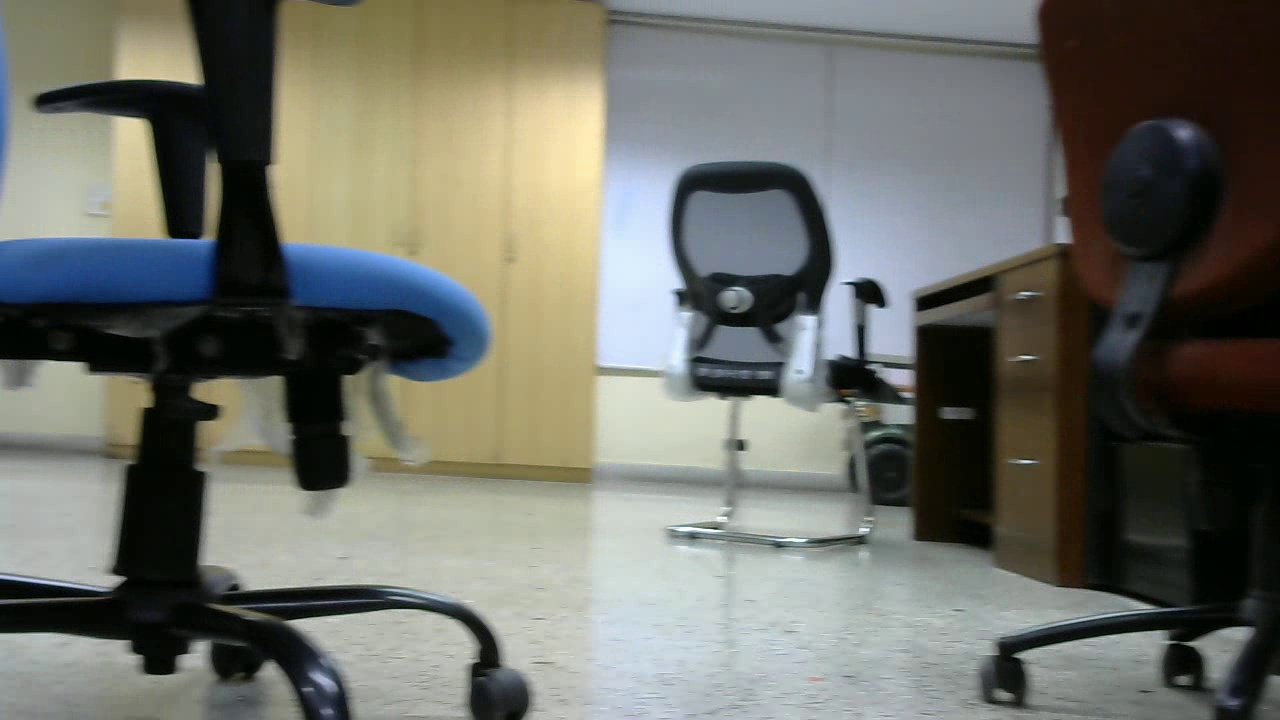chair: (963, 5, 1280, 720), (617, 148, 901, 547)
